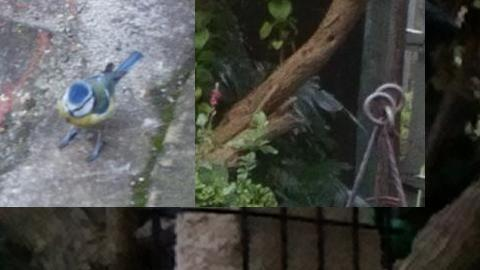blue tit: (56, 50, 145, 164)
